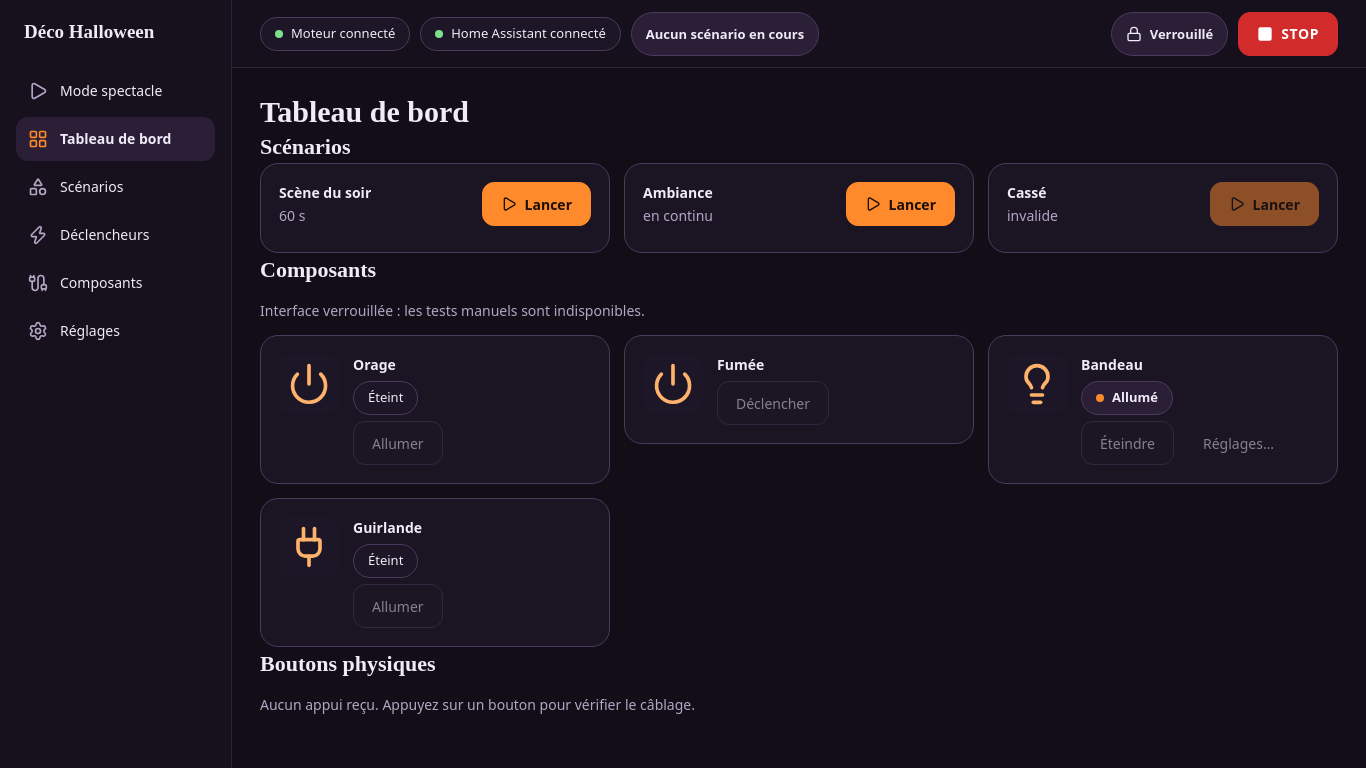
Scenario: verrouillé : le code est demandé pour lancer, les tests manuels sont désactivés
Expected: the text "Orage" is shown, left=353, top=354, right=396, bottom=375
Expected: the button "Allumer" below "Orage" is disabled, left=353, top=421, right=443, bottom=465
Click the button "Lancer" next to "Scène du soir" at (536, 204), box left=482, top=182, right=591, bottom=226
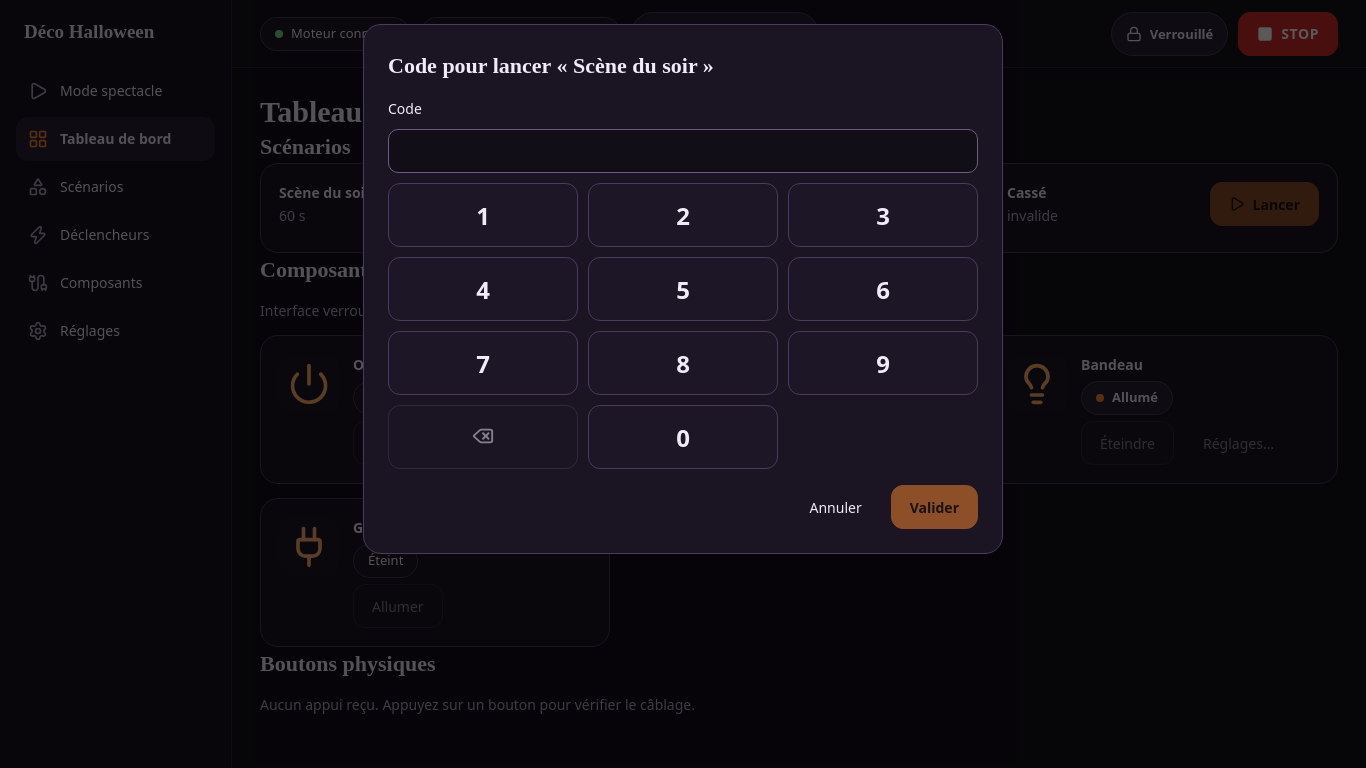
Type "9999" into the password field labelled "Code" at (683, 151), box left=388, top=129, right=978, bottom=173
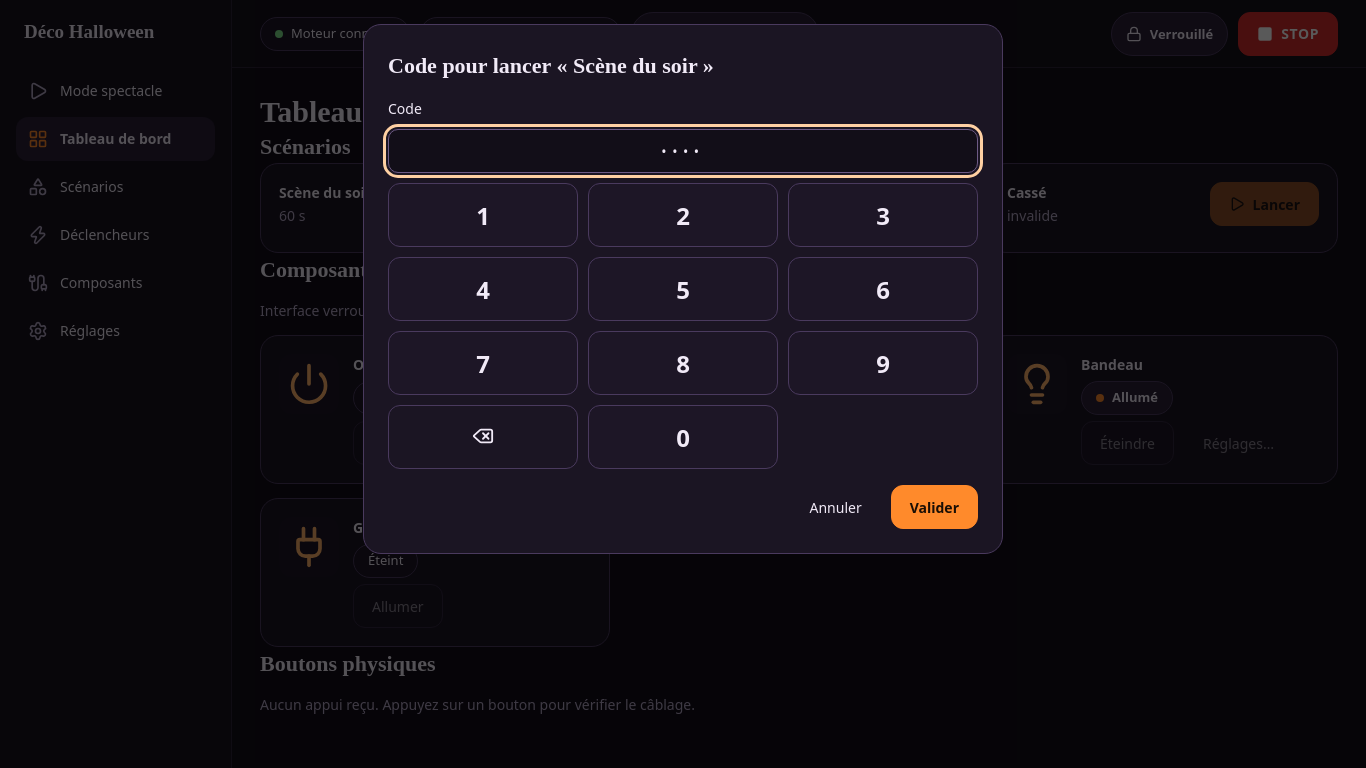
Click the button "Valider" at (934, 507), box left=891, top=485, right=978, bottom=529
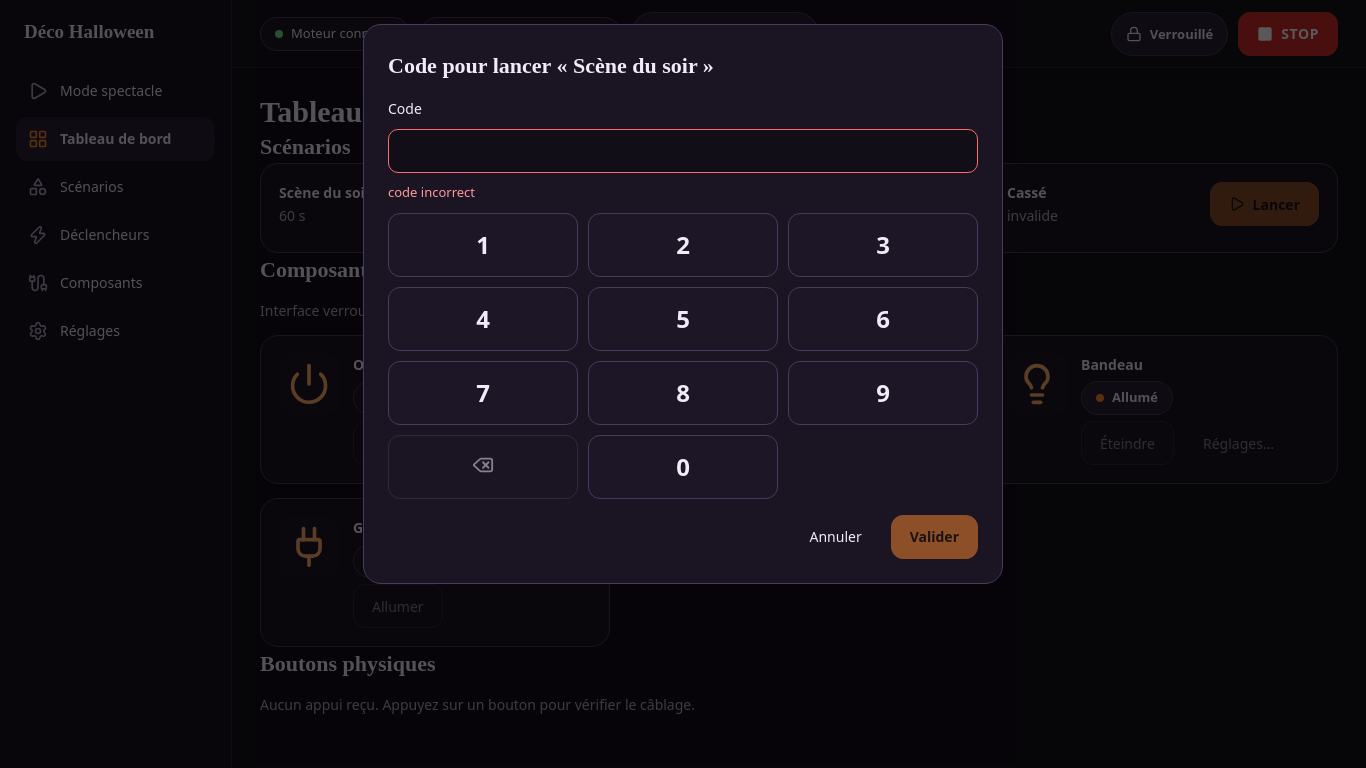
Now the text "code incorrect" is shown, box left=388, top=183, right=475, bottom=201
Type "1234" into the password field labelled "Code" at (683, 151), box left=388, top=129, right=978, bottom=173
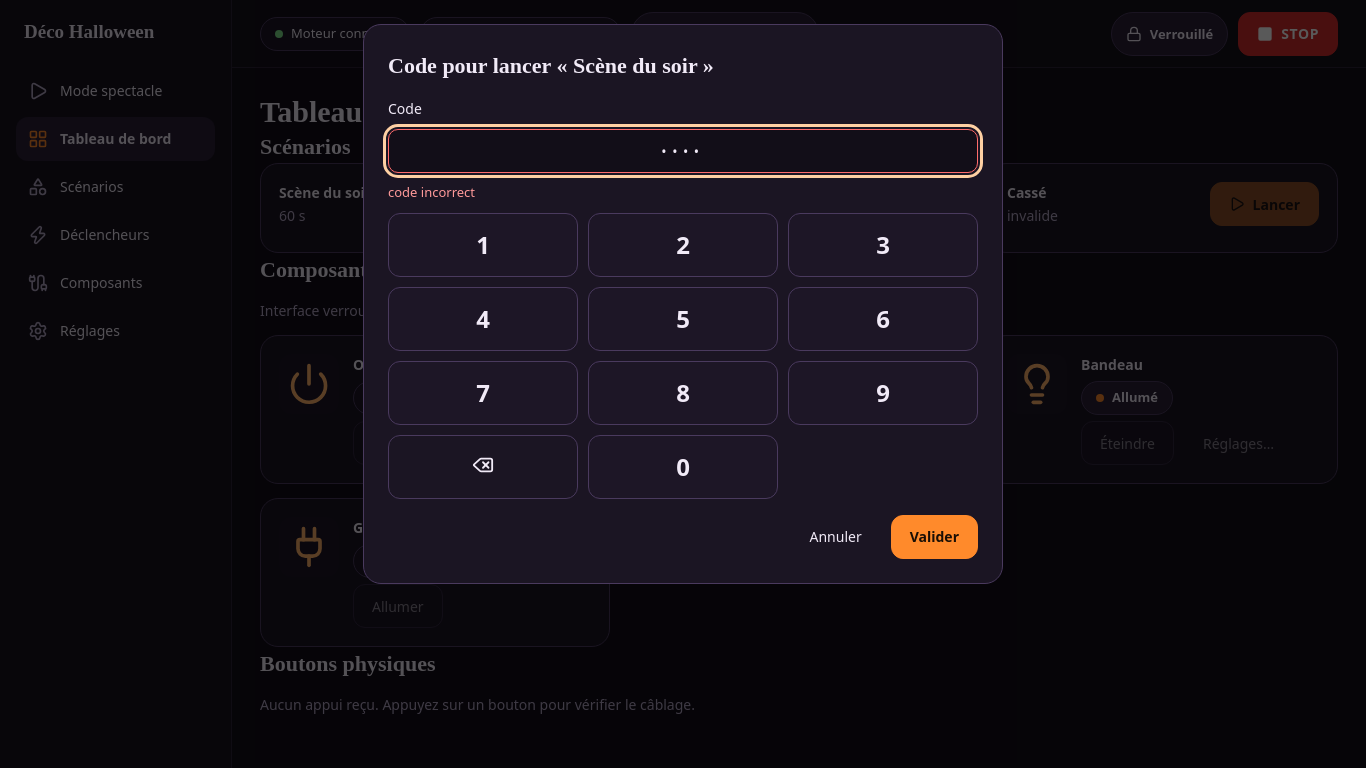
Click the button "Valider" at (934, 536), box left=891, top=514, right=978, bottom=558
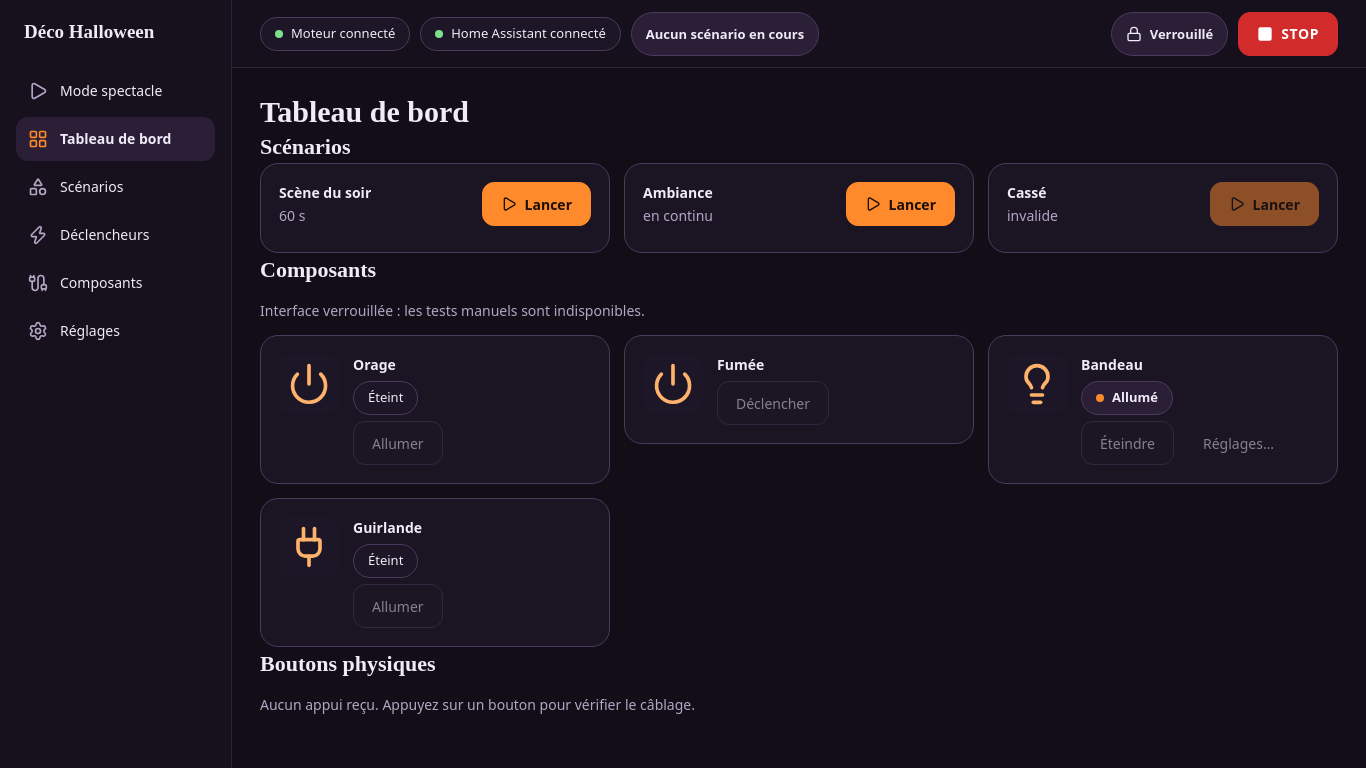
Now the dialog is gone
